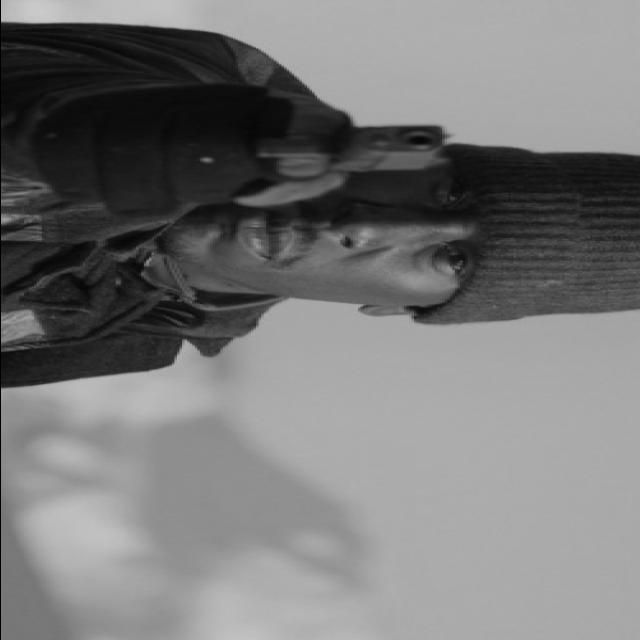weapons: (150, 111, 480, 199)
